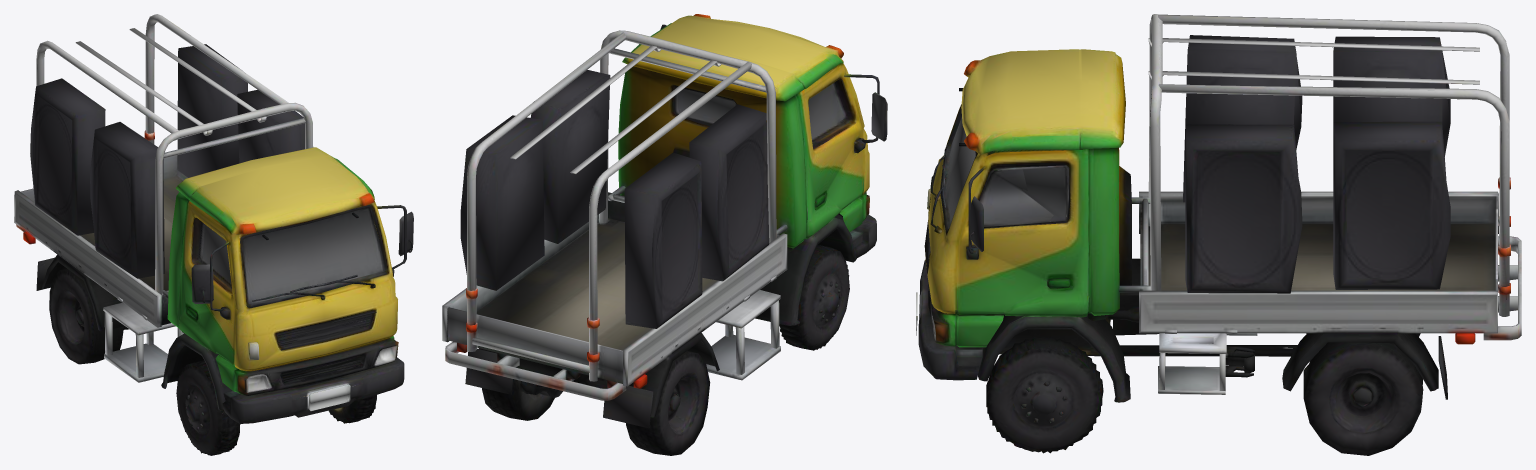
File: truck.glb
3 renders of one model, left to right at view 1: azimuth 30°, elevation 25°; view 2: azimuth 150°, elevation 25°; view 3: azimuth 270°, elevation 25°, orthographic. The views are drawn at different scales.
Parts seen in each view (by area): view 1: tripo_node_0a346963-201e-41db-99c3-2c19c45c372c; view 2: tripo_node_0a346963-201e-41db-99c3-2c19c45c372c; view 3: tripo_node_0a346963-201e-41db-99c3-2c19c45c372c.
Boxes of the visible parts, bbox=[...] form: tripo_node_0a346963-201e-41db-99c3-2c19c45c372c: bbox=[14, 14, 413, 455]; tripo_node_0a346963-201e-41db-99c3-2c19c45c372c: bbox=[442, 14, 887, 455]; tripo_node_0a346963-201e-41db-99c3-2c19c45c372c: bbox=[916, 14, 1521, 455].
Size of the model in its own units: 3.61 by 4.46 by 6.8.
Materials: 1 (1 with a texture image).
